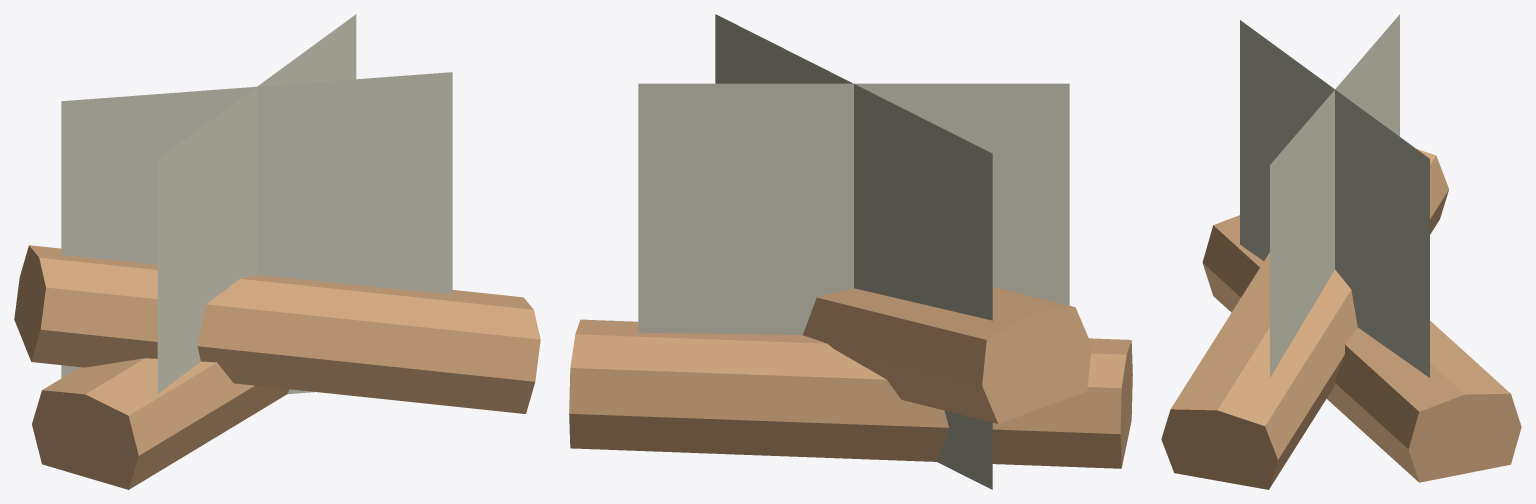
The model's file is s_campFire.fbx.
3 renders of one model, left to right at view 1: azimuth 30°, elevation 25°; view 2: azimuth 150°, elevation 25°; view 3: azimuth 270°, elevation 25°, orthographic. The views are drawn at different scales.
Visible parts, largest first — view 1: campFire; view 2: campFire; view 3: campFire.
Boxes of the visible parts, <box> form: campFire: <box>14,14,540,489</box>; campFire: <box>569,14,1132,489</box>; campFire: <box>1161,14,1521,489</box>.
Size of the model in its own units: 0.4546 by 0.292 by 0.3188.
